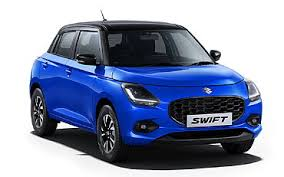car: (28, 18, 260, 164)
